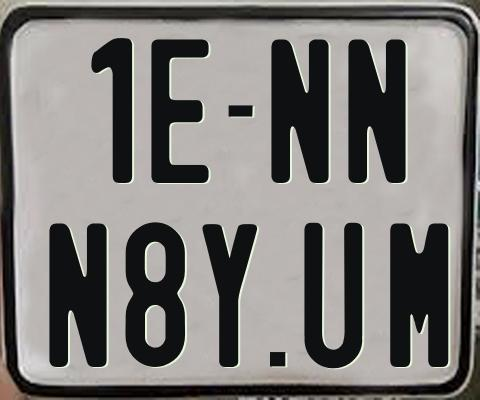1: (91, 37, 136, 184)
8: (122, 221, 182, 371)
E: (148, 39, 206, 186)
M: (389, 220, 447, 366)
N: (269, 37, 332, 186), (49, 221, 108, 370), (348, 37, 406, 182)
U: (301, 222, 359, 372)
Y: (201, 221, 259, 367)
